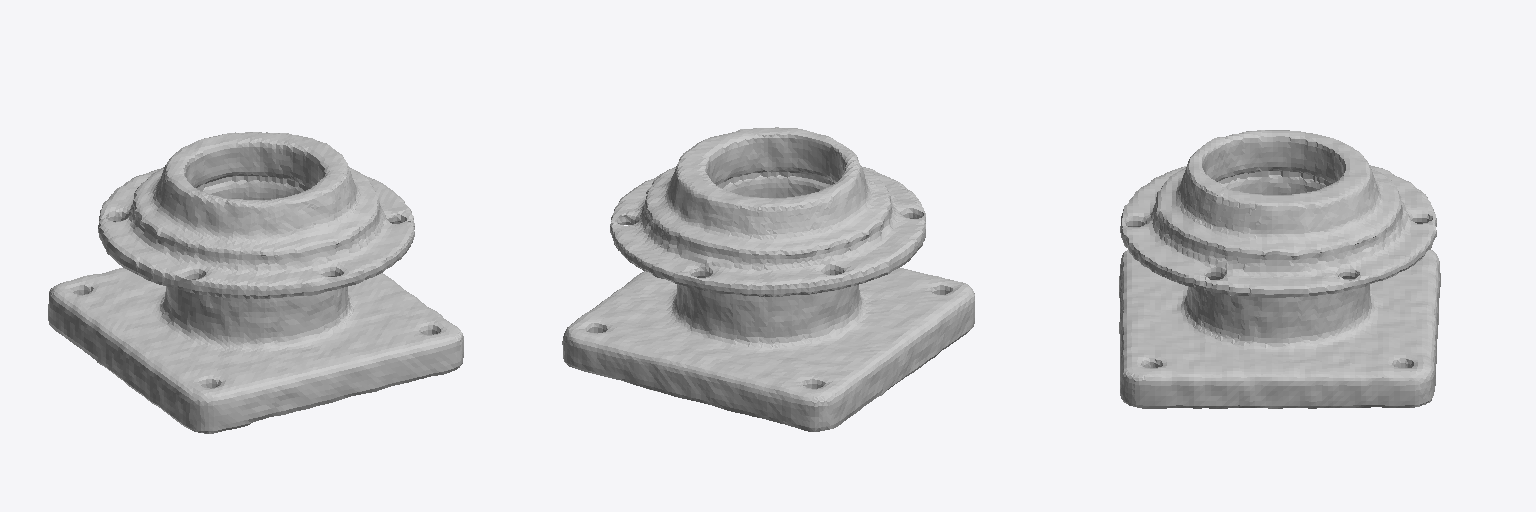
The model's file is reel.obj.
3 views of the same model, side by side, from view 1: azimuth 30°, elevation 25°; view 2: azimuth 150°, elevation 25°; view 3: azimuth 270°, elevation 25° (orthographic).
Parts seen in each view (by area): view 1: Reel; view 2: Reel; view 3: Reel.
Boxes of the visible parts, box(x1,y1,x2,y2) form: Reel: box(48, 132, 463, 433); Reel: box(562, 127, 974, 431); Reel: box(1119, 130, 1440, 408).
Bounding box in the file's own units: 2.51 × 1.6 × 2.53.